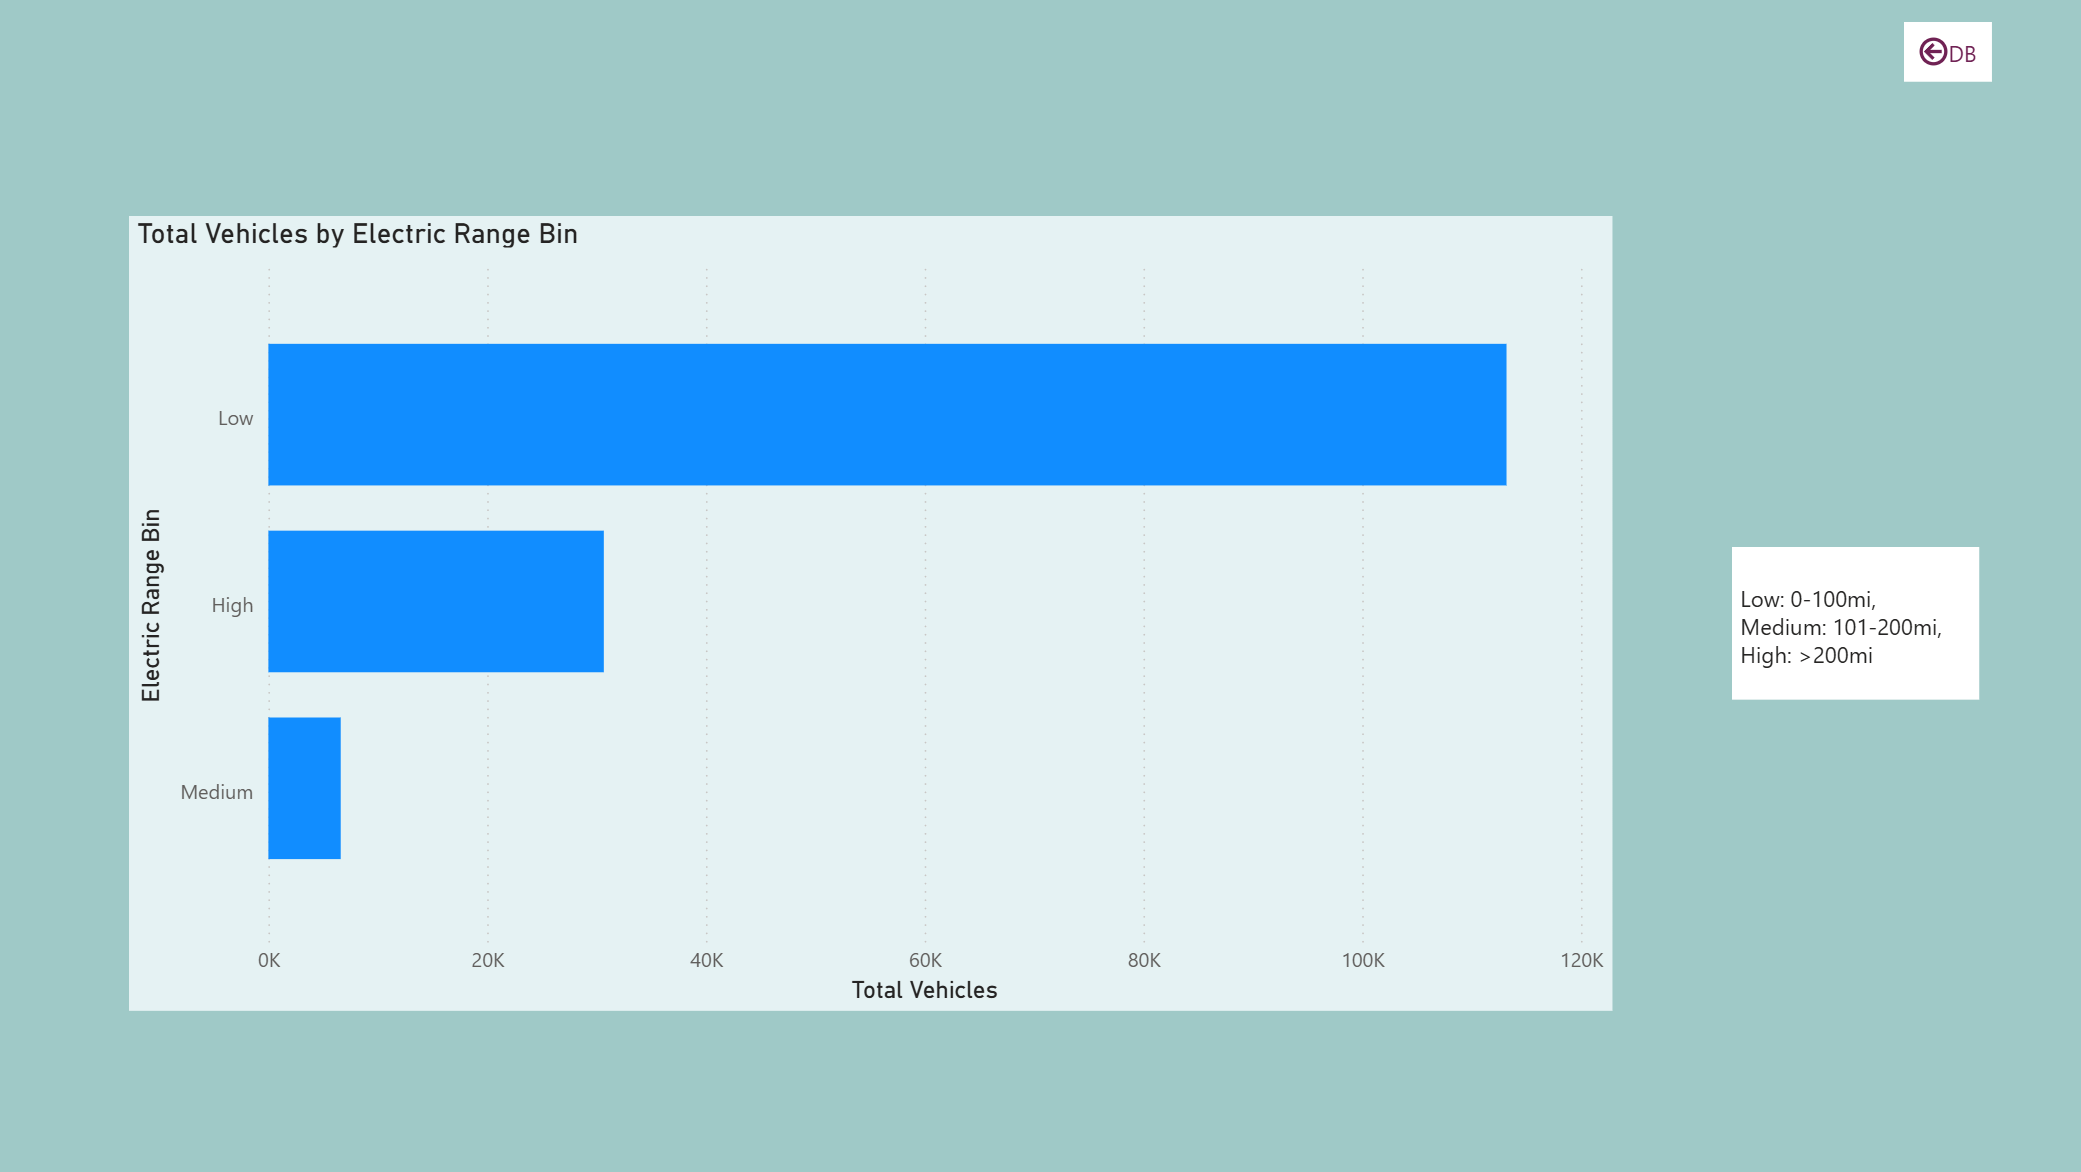

The page's visual inventory and layout, read from the dashboard file:
{"tool":"powerbi","page":{"name":"Range Bin Details","canvas":[1280,720],"ordinal":10},"visuals":[{"type":"barChart","fields":{"Category":["Electric_Vehicle_Population_Data.Electric Range Bin"],"Y":["Electric_Vehicle_Population_Data.Total Vehicles"]},"box":[90,134.7,894,479.3],"z":0},{"type":"textbox","box":[1056,334,149.3,92],"z":1000},{"type":"actionButton","box":[1159.2,17.7,53.1,36.2],"z":2000}]}

Visuals, with their boxes in screenshot pixels (x1, y1, x2, y2), scaled from the page's 1280x720 canvas onto the 2081x1172 screenshot:
barChart - Electric_Vehicle_Population_Data.Electric Range Bin x Electric_Vehicle_Population_Data.Total Vehicles: x1=146 y1=219 x2=1600 y2=999
textbox: x1=1717 y1=544 x2=1960 y2=693
actionButton: x1=1885 y1=29 x2=1971 y2=88
